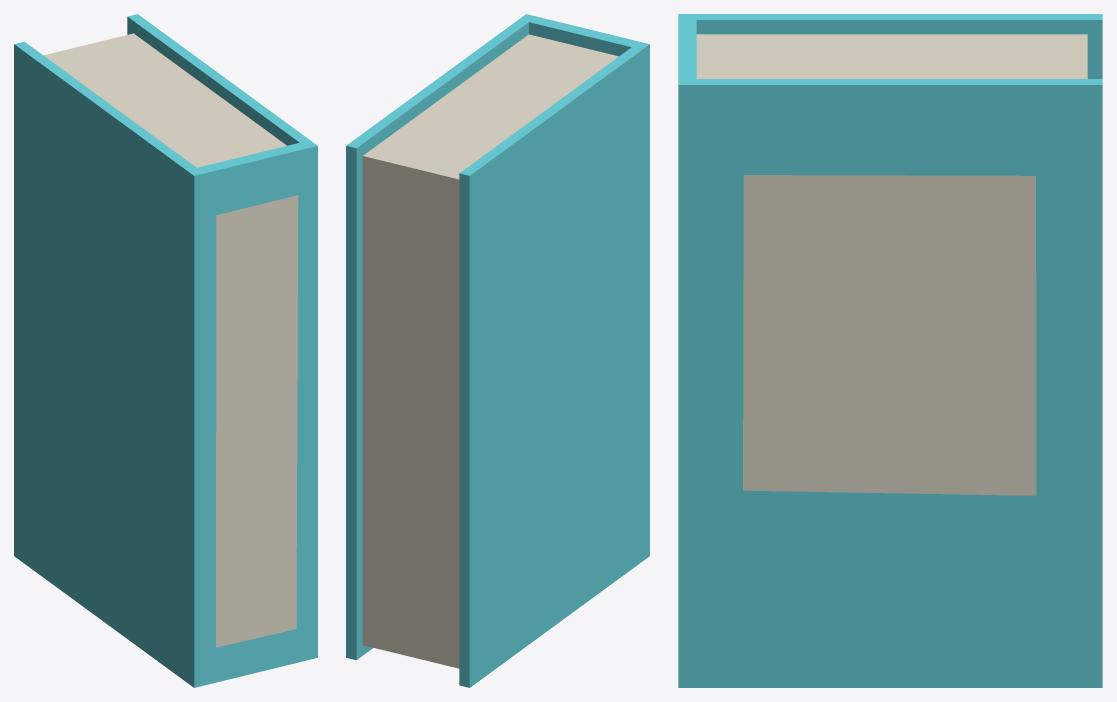
File: book12.fbx
3 renders of one model, left to right at view 1: azimuth 30°, elevation 25°; view 2: azimuth 150°, elevation 25°; view 3: azimuth 270°, elevation 25°, orthographic. The views are drawn at different scales.
Parts seen in each view (by area): view 1: Boole_4; view 2: Boole_4; view 3: Boole_4.
Part boxes in pixels (x1=…): Boole_4: x1=14, y1=14, x2=317, y2=687; Boole_4: x1=346, y1=14, x2=649, y2=687; Boole_4: x1=678, y1=14, x2=1102, y2=687.
Size of the model in its own units: 11.73 by 46.4 by 29.58.
